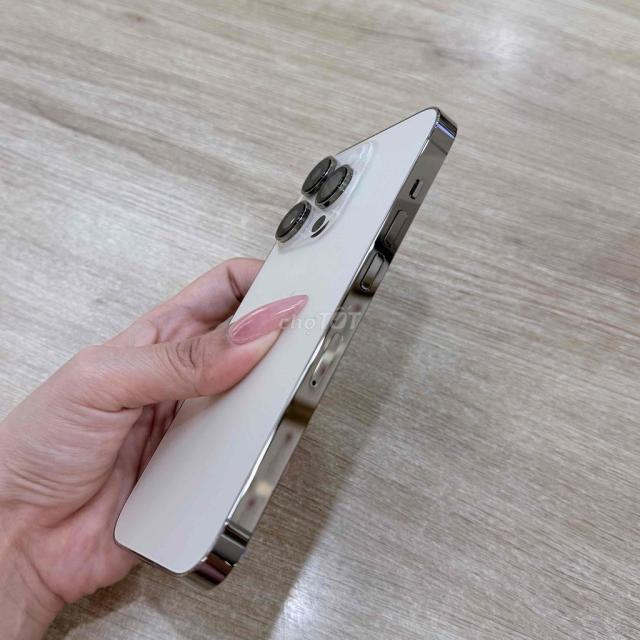gen_14: (117, 108, 460, 590)
